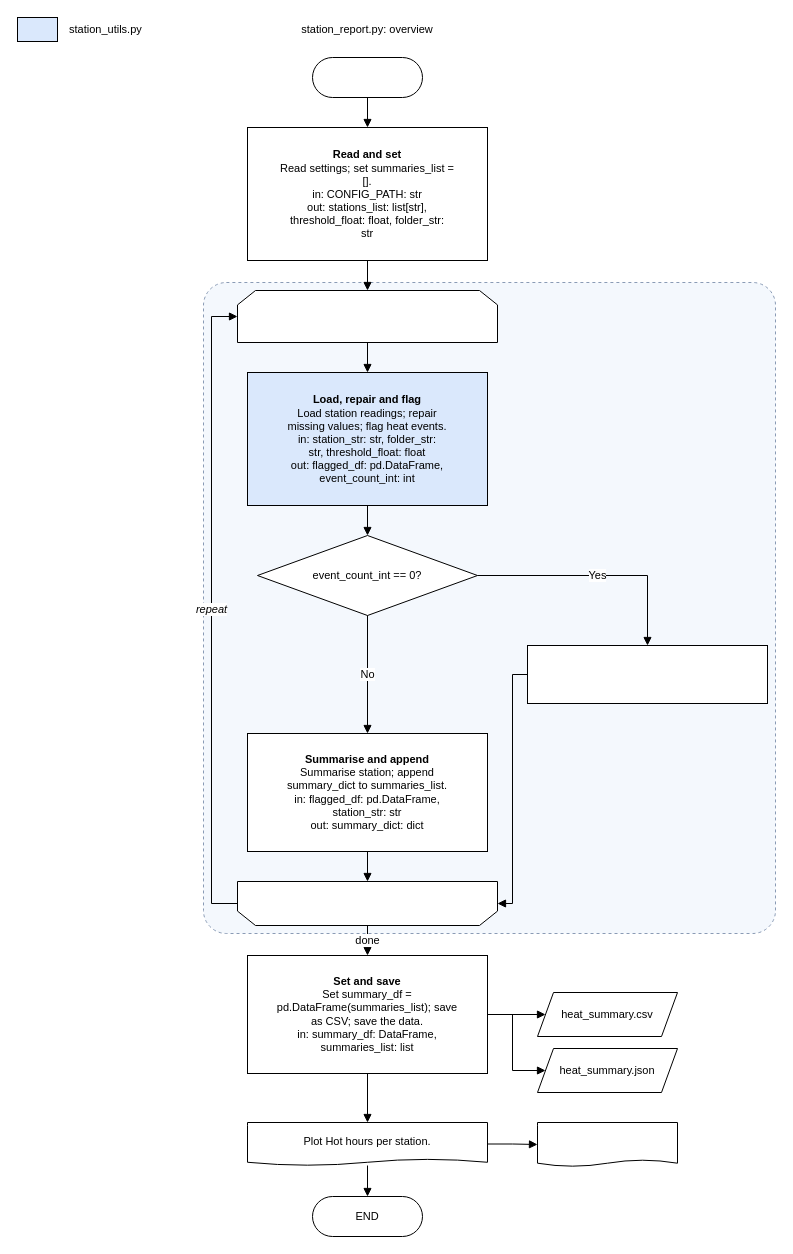
The diagram is 793 pixels wide and 1254 high, and some of its shapes have lost their labels. The shapes that lost their labels are listed below. From the top down, each one's centre as x and y in pixels, then its label:
[367,77]: START
[367,316]: For each station_str in stations_list
[647,674]: Print f'{station_str}: no heat events'.
[367,903]: Next station_str
[607,1144]: hot_hours.png
